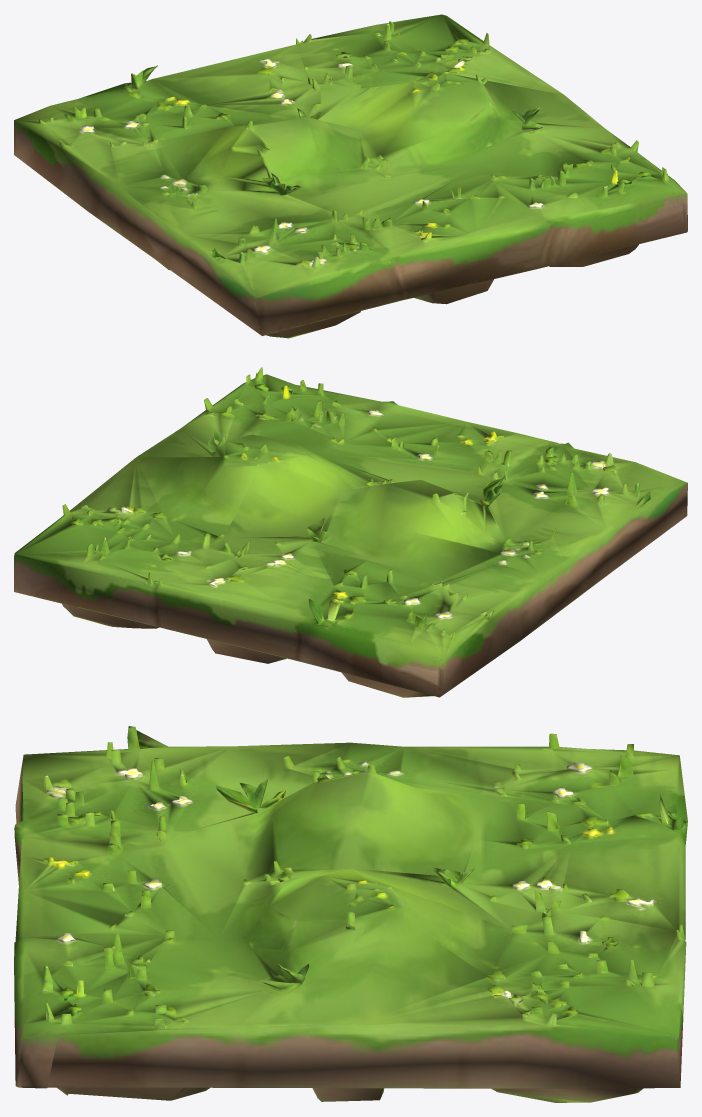
Rendered from grass-patch.glb.
3 renders of one model, top to bottom at view 1: azimuth 30°, elevation 25°; view 2: azimuth 150°, elevation 25°; view 3: azimuth 270°, elevation 25°, orthographic. The views are drawn at different scales.
Parts seen in each view (by area): view 1: Mesh1.0; view 2: Mesh1.0; view 3: Mesh1.0.
Boxes of the visible parts, x1,y1,x2,y2 form: Mesh1.0: [14, 14, 687, 338]; Mesh1.0: [14, 367, 687, 697]; Mesh1.0: [14, 726, 687, 1102].
Bounding box in the file's own units: 1.89 × 0.4792 × 1.88.
Materials: 1 (1 with a texture image).
